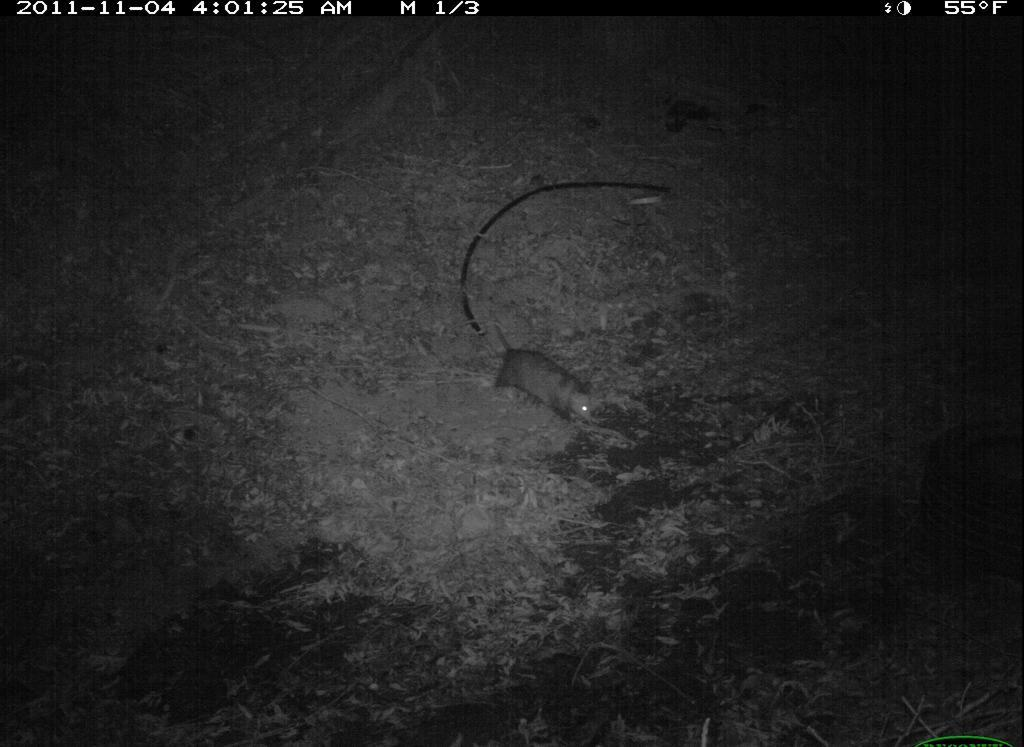opossum: (486, 332, 619, 438)
